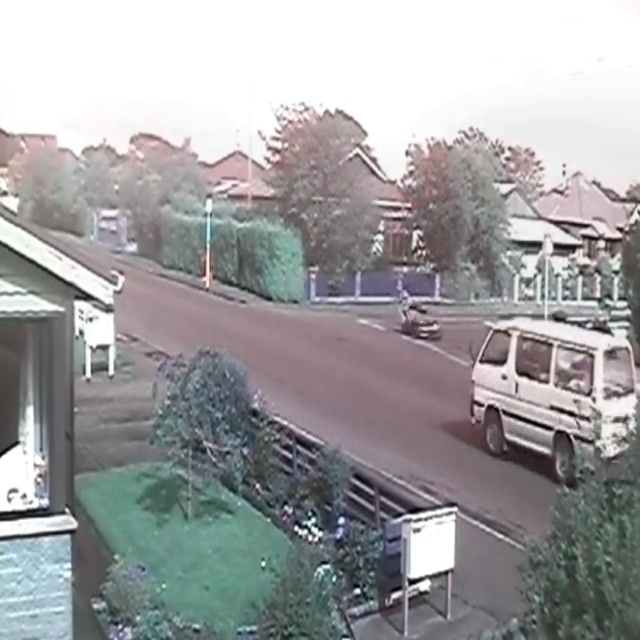acc: (387, 285, 450, 349)
